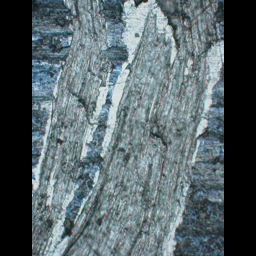d: (32, 0, 224, 255)
